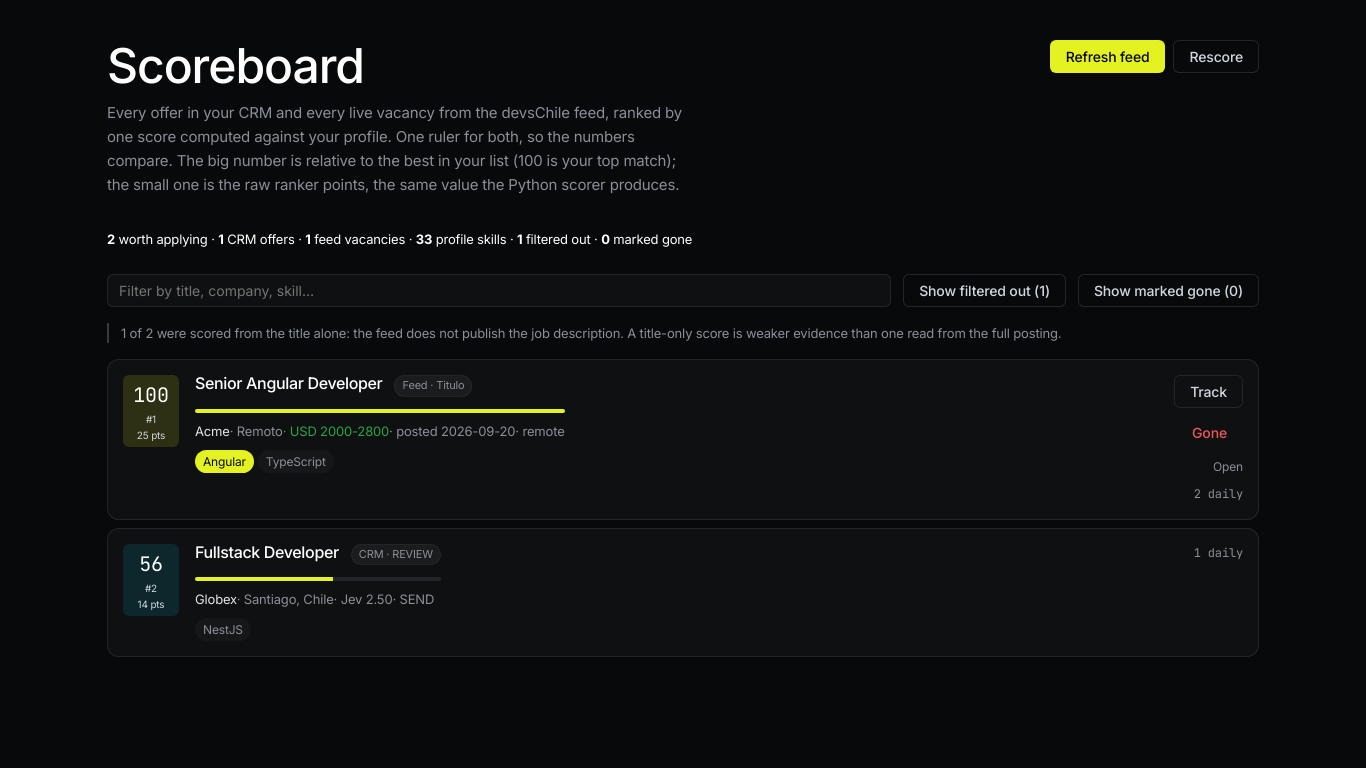
Test: ScoreboardComponent › reports a failed dismiss instead of pretending it worked
The image size is (1366, 768).
Click the button with class "btn-danger" at (1210, 433), box [1176,416,1243,449]
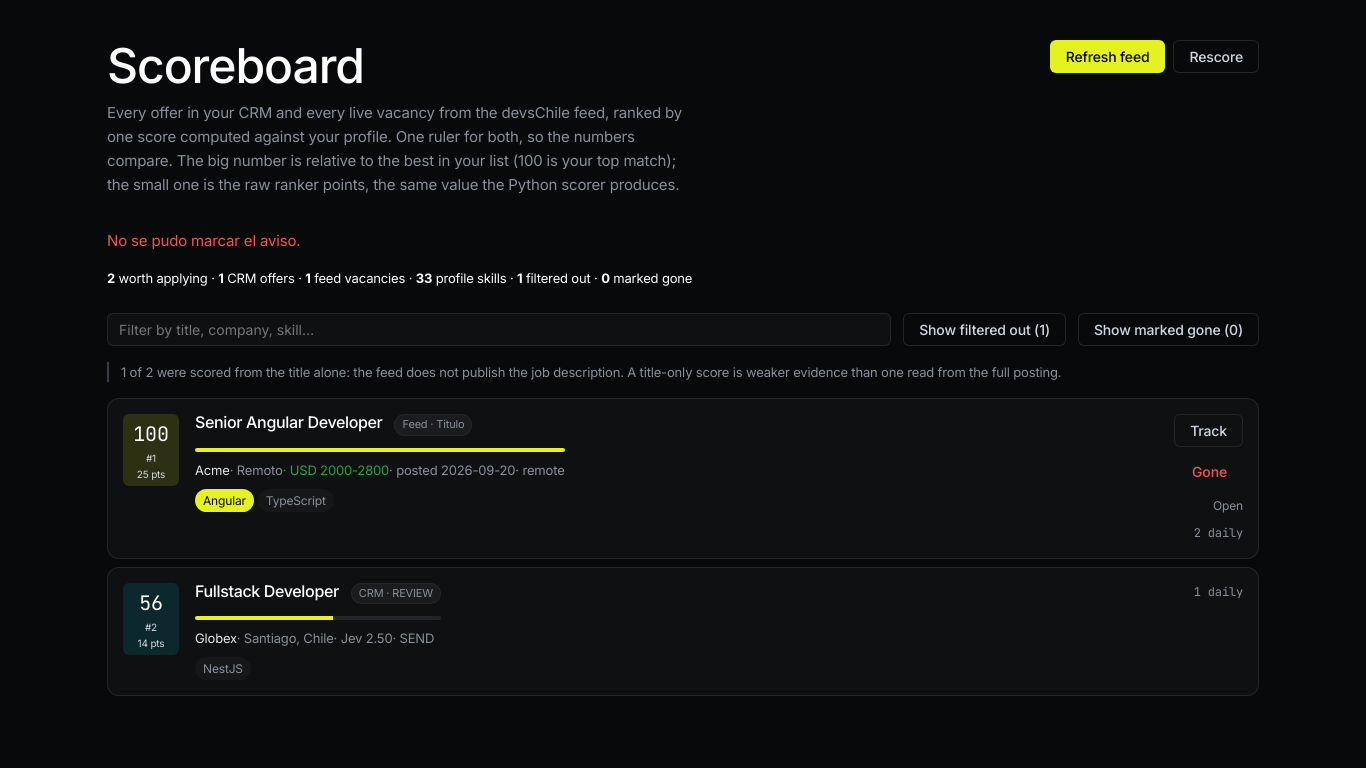
Now the text "No se pudo marcar" is shown, box [107,231,300,250]
